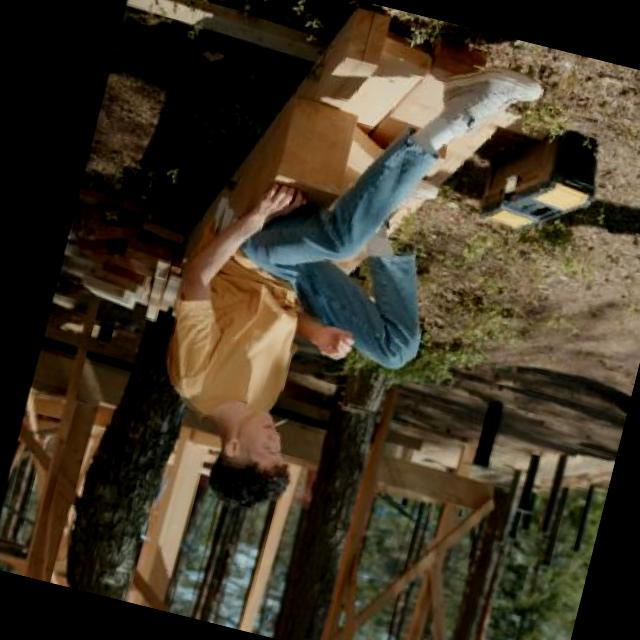smoke: (256, 407, 294, 442)
